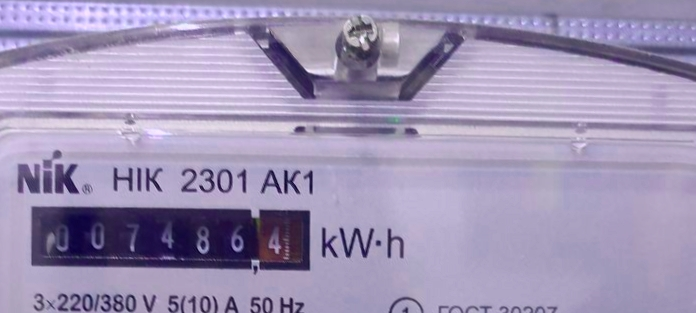0: (49, 221, 69, 256), (86, 220, 104, 253)
4: (155, 218, 173, 253), (263, 224, 280, 258)
6: (226, 224, 245, 256)
7: (118, 221, 141, 254)
8: (192, 224, 209, 259)
screen: (19, 196, 318, 284)
